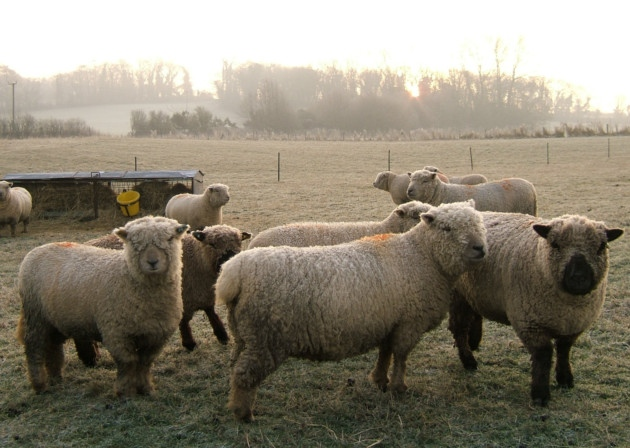sheep: (215, 195, 487, 421), (471, 203, 630, 402), (33, 209, 186, 394), (255, 191, 444, 265), (179, 209, 265, 364), (408, 171, 565, 221), (179, 166, 232, 240), (1, 178, 43, 233)
